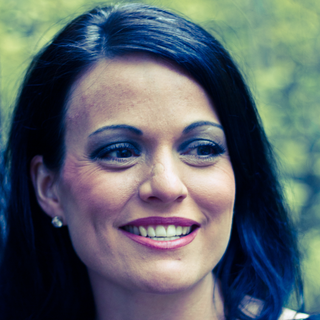eye: (177, 138, 224, 161), (95, 142, 143, 163)
